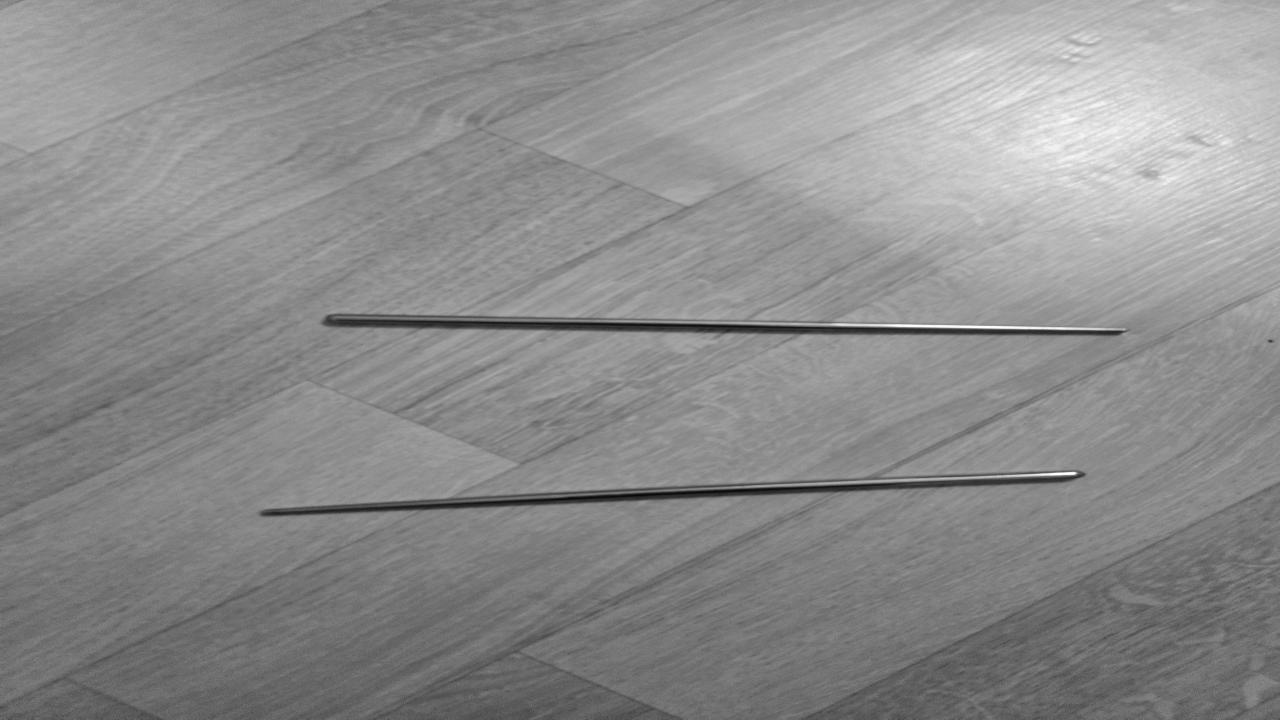chopstick: (259, 469, 1086, 517), (323, 312, 1126, 337)
